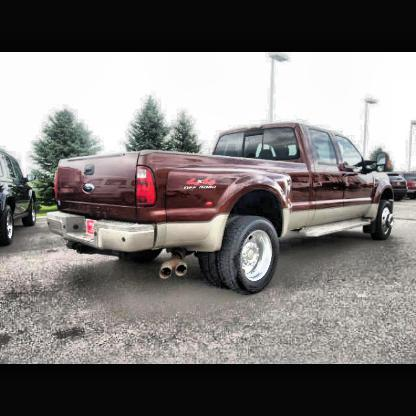Ford F-450 Super Duty Crew Cab 2012: (48, 123, 394, 295)
